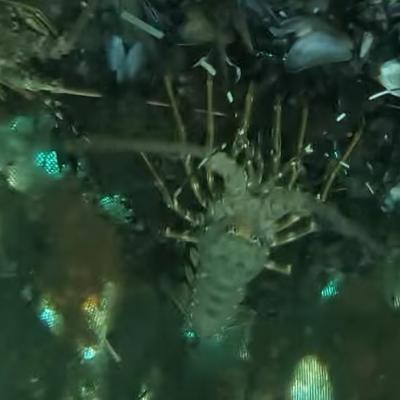lobster: (168, 122, 299, 339)
